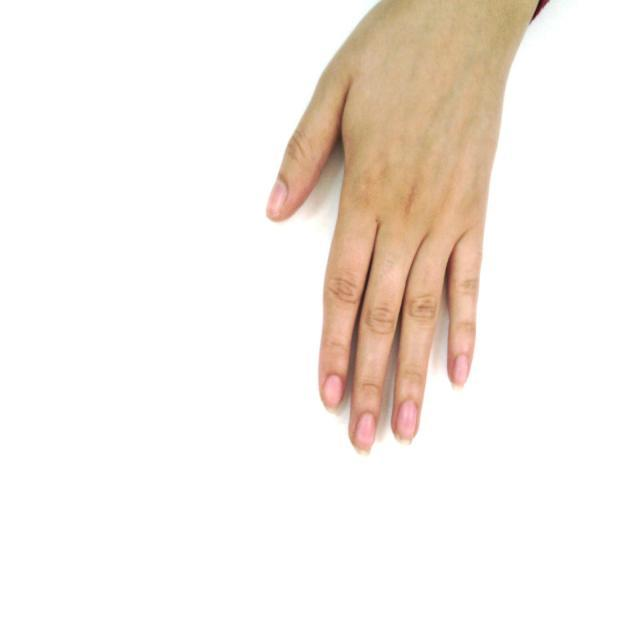Fingernail: (396, 402, 417, 444), (356, 413, 375, 454), (267, 179, 287, 216), (324, 375, 342, 409), (453, 357, 468, 386)
